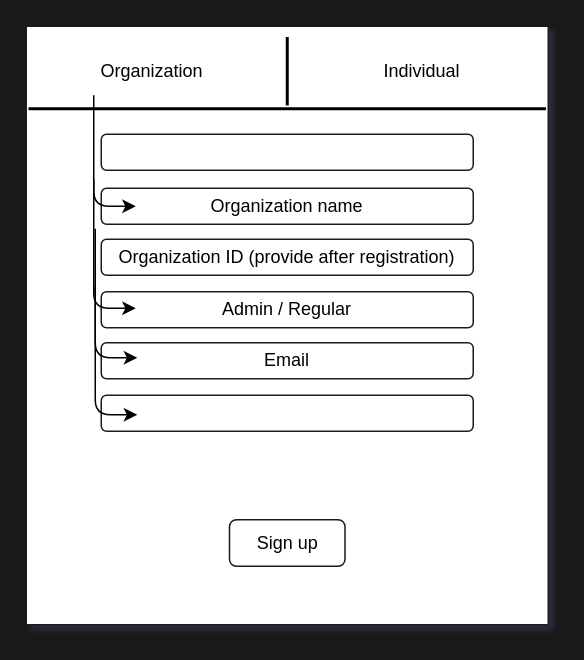
Image size: 584x660. Some labels were removed from this diagram. Each missing label, with the box of its shape:
Password: (100, 394, 473, 431)
Username: (100, 133, 473, 170)
